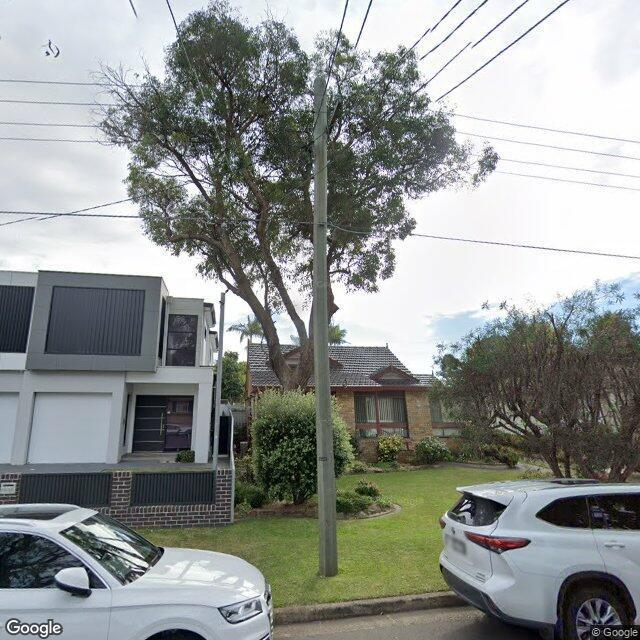crossarm: (305, 99, 342, 153)
steel-pole: (212, 293, 226, 470)
timber-pole: (312, 74, 340, 576)
